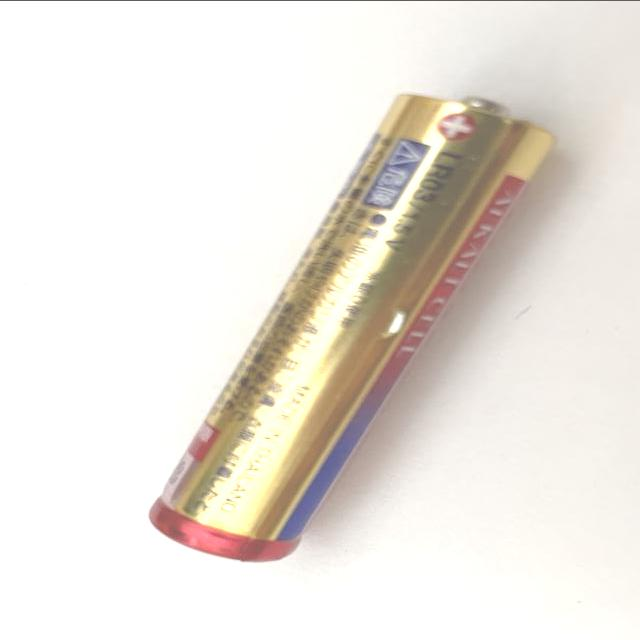AA: (148, 91, 562, 562)
